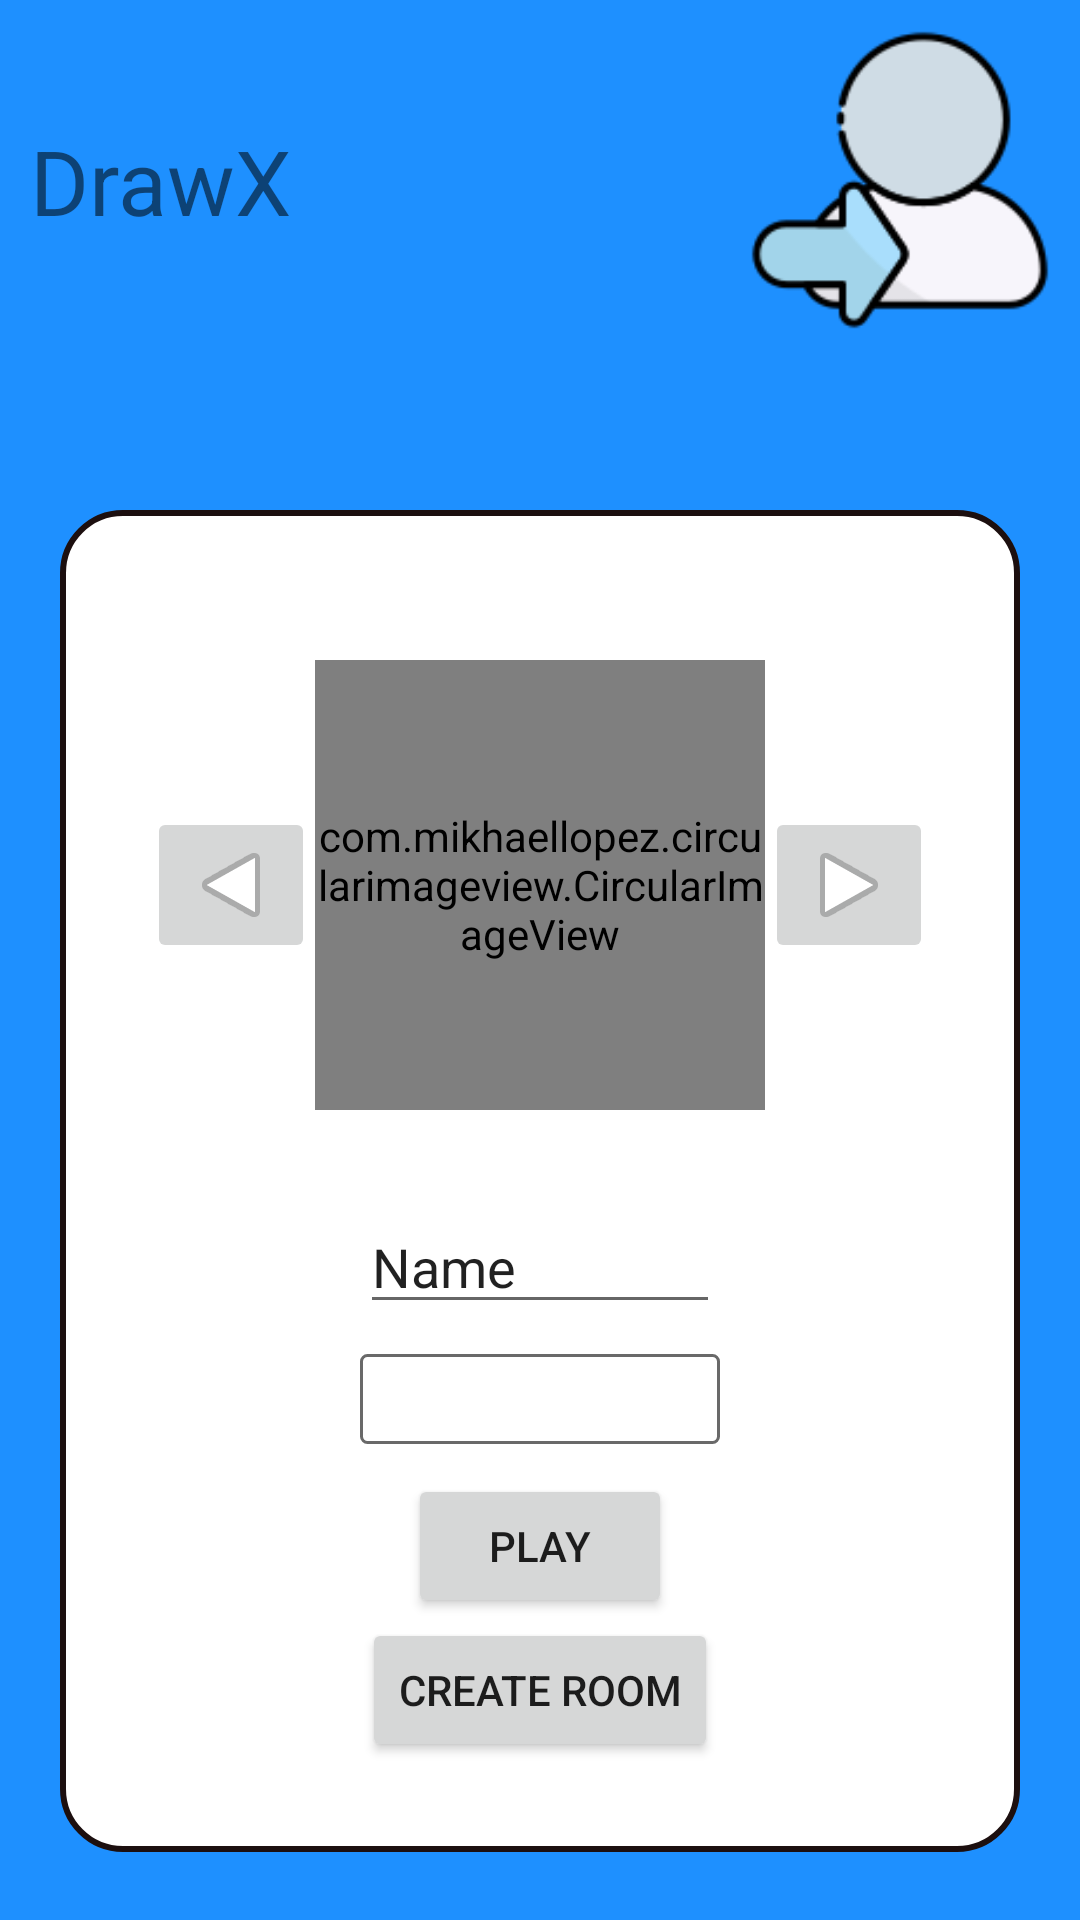

Screen size 1080 x 1920. Icon name, then its center in pixels as (x=x, y=y):
login: (x=900, y=180)
